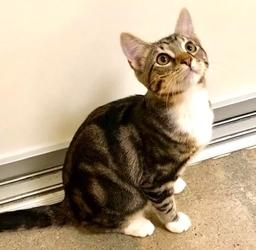bengal: (110, 1, 216, 96)
